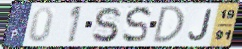0: (27, 6, 55, 44)
1: (67, 5, 84, 45)
D: (151, 5, 186, 45)
J: (187, 8, 213, 42)
S: (121, 5, 153, 44), (90, 6, 122, 44)
